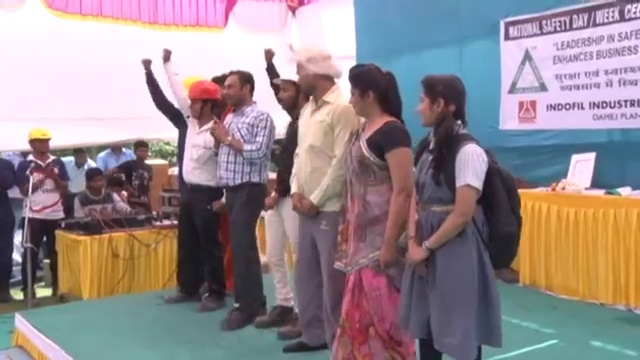helmet: (184, 78, 221, 105), (25, 126, 54, 148), (274, 64, 300, 86)
helmet_off: (343, 61, 397, 133), (414, 74, 469, 134), (293, 48, 339, 99), (217, 69, 256, 114), (84, 167, 106, 198), (129, 135, 150, 163), (70, 147, 90, 168)
helmet_on: (185, 79, 220, 128), (272, 64, 301, 114), (27, 128, 52, 164)
person: (414, 70, 521, 357), (343, 59, 419, 360), (290, 49, 360, 360), (161, 48, 233, 306), (207, 68, 276, 331), (265, 48, 307, 340), (17, 125, 71, 313), (73, 167, 135, 221), (109, 139, 155, 211), (0, 154, 21, 306), (60, 145, 98, 218), (95, 138, 135, 173)
